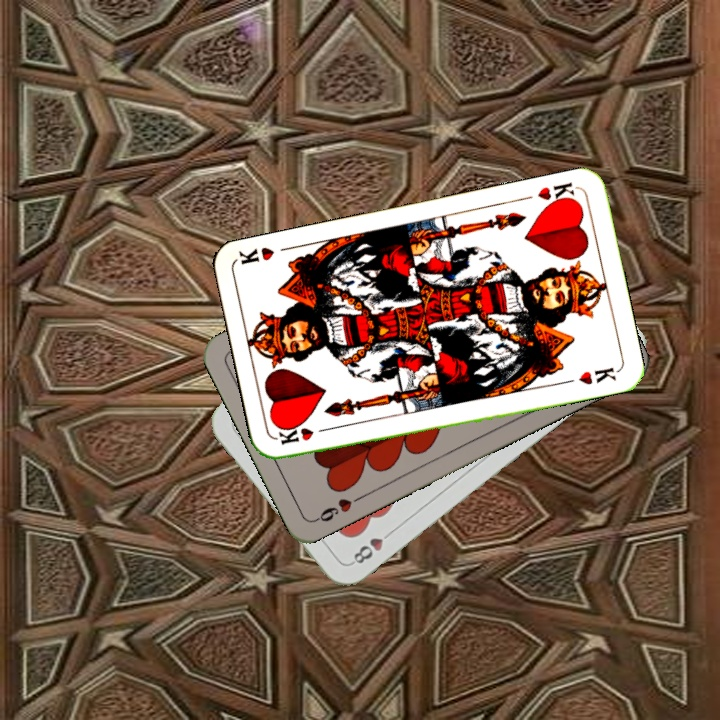H8: (346, 525, 396, 567)
H9: (310, 491, 366, 525)
HK: (533, 178, 580, 210), (274, 423, 334, 447)
